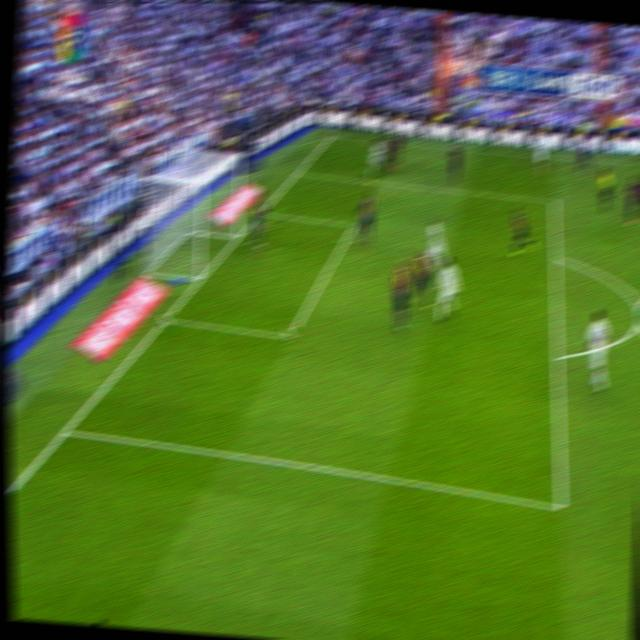bigarea_bottom_inner: (281, 322, 298, 348)
bigarea_top_outter: (292, 166, 304, 178)
bottom_arc_area_intersection: (56, 419, 73, 441)
corner: (326, 129, 340, 139)
smallarea_bottom_outter: (158, 308, 172, 328)
smallarea_top_outter: (256, 206, 267, 218)
